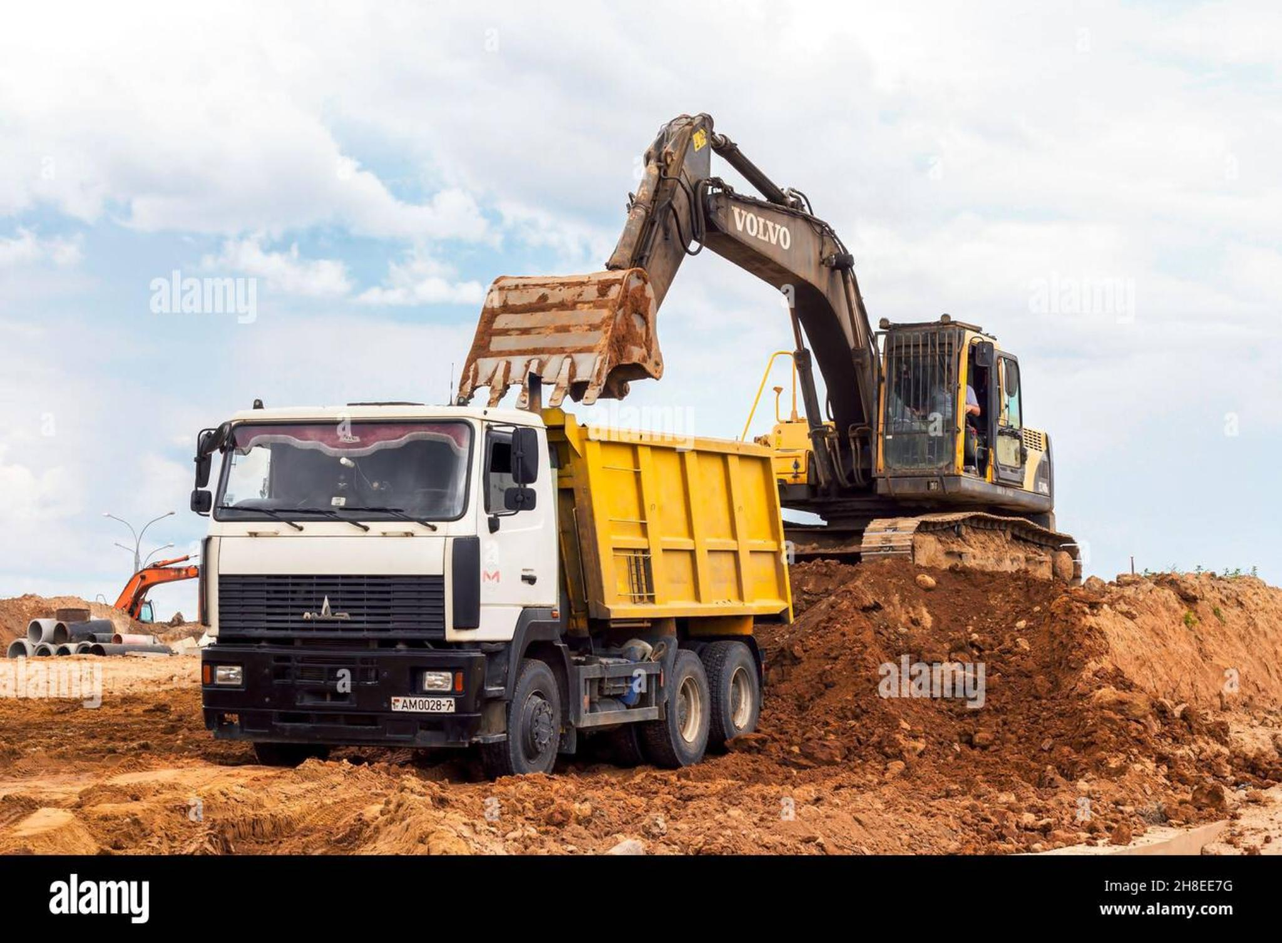excavator: (442, 93, 872, 387), (785, 306, 1093, 574)
truck: (179, 410, 789, 754)
